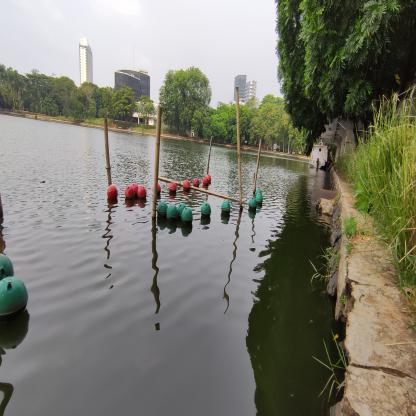green_buoy: (0, 275, 29, 323), (0, 252, 14, 281), (181, 207, 193, 227), (166, 204, 178, 221), (157, 201, 168, 219), (200, 202, 212, 218), (177, 203, 187, 219), (221, 200, 231, 216), (248, 198, 257, 212), (254, 193, 264, 205), (254, 188, 262, 197)
red_buoy: (106, 184, 118, 200), (124, 185, 136, 200), (137, 185, 147, 200), (152, 182, 161, 196), (132, 182, 139, 196), (169, 182, 177, 194), (183, 179, 190, 191), (193, 178, 200, 188), (202, 176, 209, 185), (206, 174, 211, 183)
